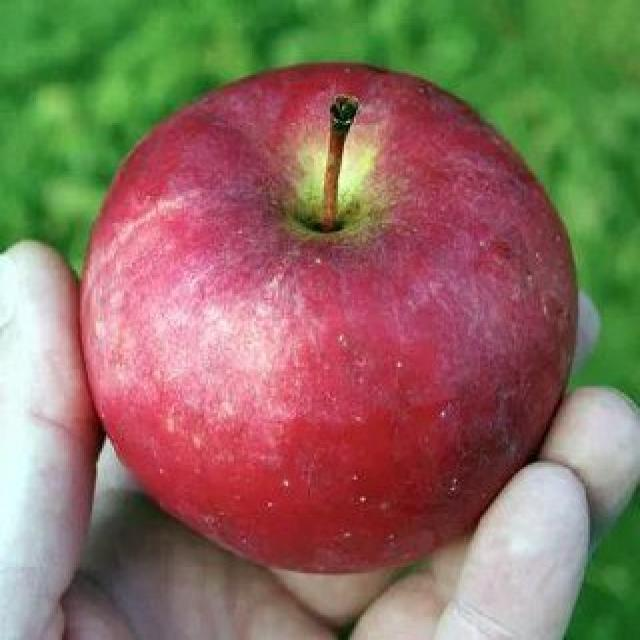Fresh Apple: (100, 85, 532, 528)
